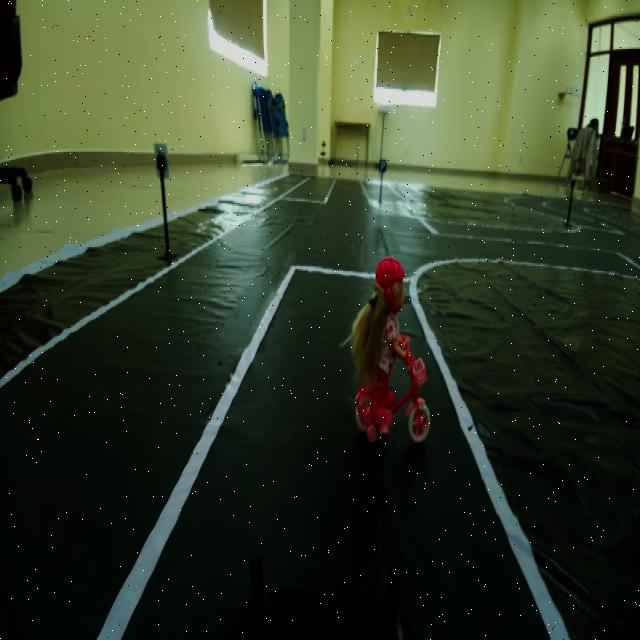pedestrian: (350, 246, 427, 448)
